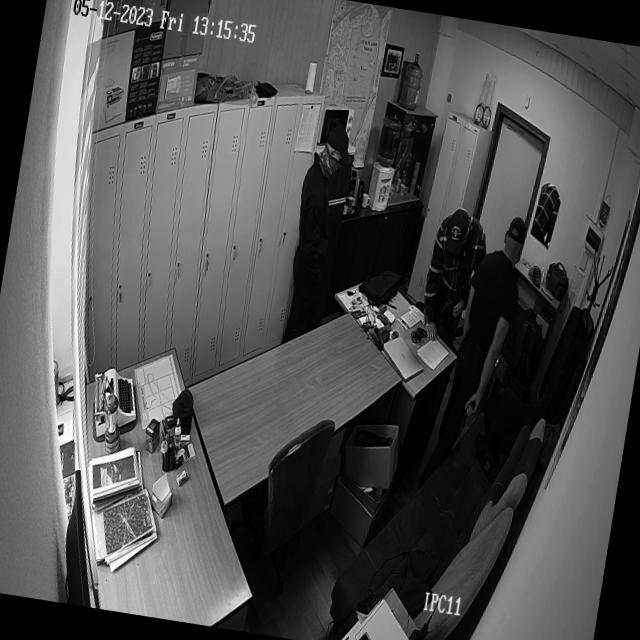gun: (444, 268, 474, 356), (457, 394, 482, 436)
person: (276, 119, 352, 358)
person with a gun: (421, 214, 529, 496), (416, 207, 492, 354)
